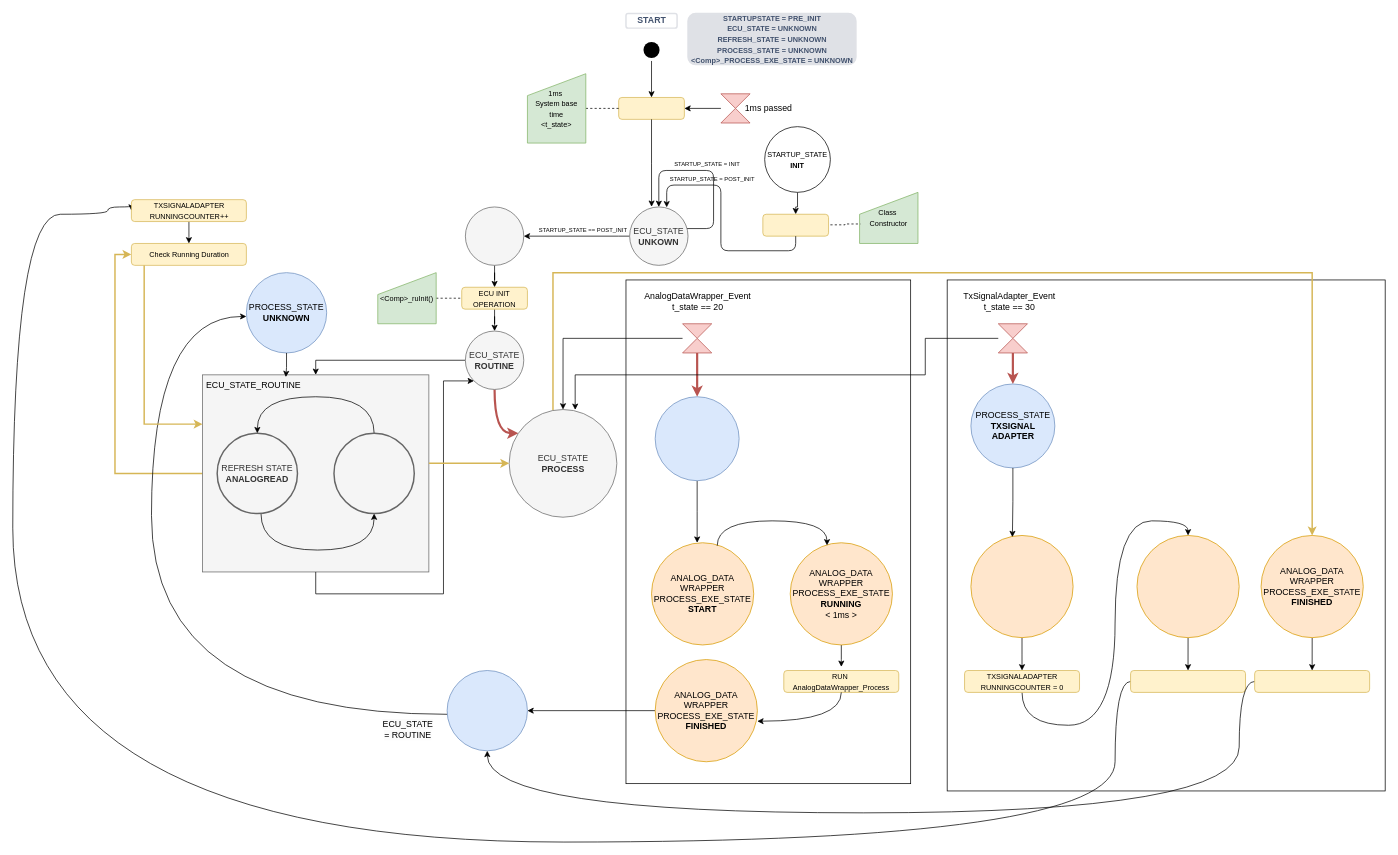
This 1398x855 diagram has some shape labels left out. Here are the shapes that lost their labels. From the top down, the centre of each, then its label:
At (x=651, y=108): "STATECOUNT++".
At (x=494, y=235): "ECU_STATE INIT".
At (x=795, y=225): "STARTUP OPERATION".
At (x=696, y=438): "PROCESS_STATE ANALOG_DATA WRAPPER".
At (x=374, y=473): "REFRESH STATE COMMUNICATION".
At (x=1021, y=586): "TXSIGNAL ADAPTER PROCESS_EXE_STATE START".
At (x=1187, y=586): "TXSIGNAL ADAPTER PROCESS_EXE_STATE RUNNING < 5ms >".
At (x=1188, y=681): "START RUN TxSignalAdapter_Process".
At (x=1312, y=681): "FINISH RUN TxSignalAdapter_Process".
At (x=486, y=710): "PROCESS_STATE DEFAULT".
